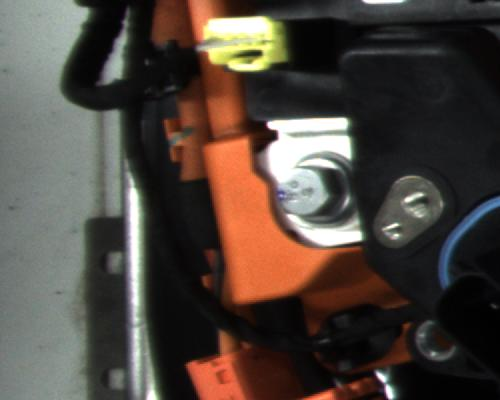nut_b: (264, 154, 358, 229)
